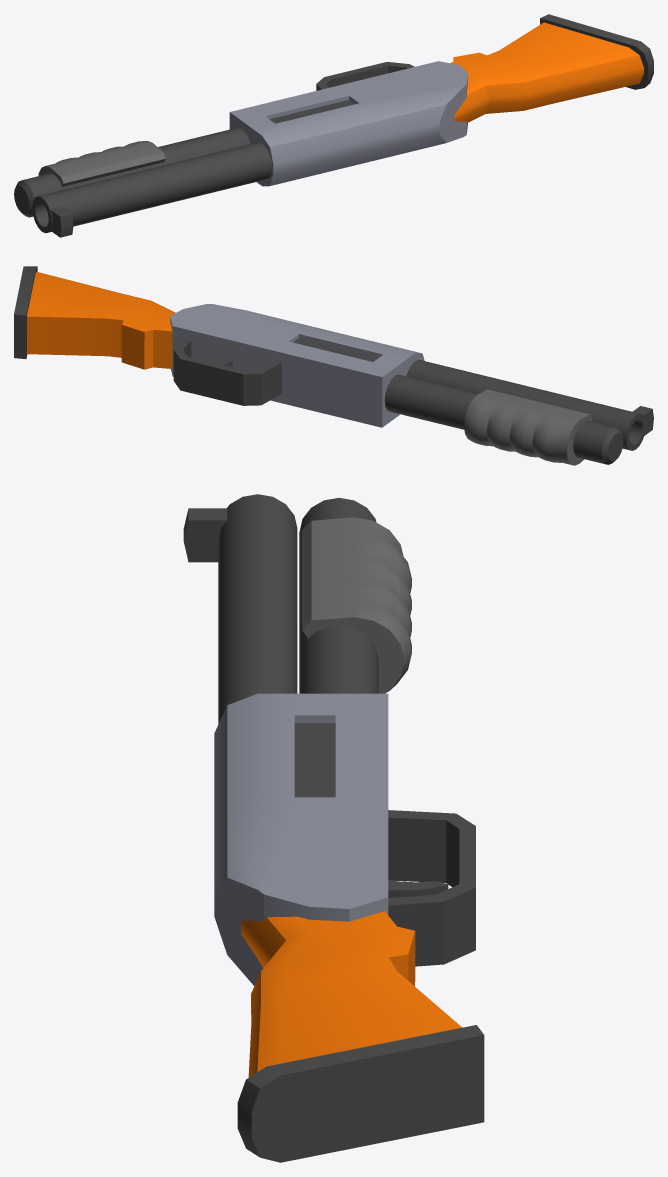
File: StartingGun_orange.glb
3 views of the same model, one above another, from view 1: azimuth 30°, elevation 25°; view 2: azimuth 150°, elevation 25°; view 3: azimuth 270°, elevation 25° (orthographic). The views are drawn at different scales.
Parts seen in each view (by area): view 1: Shotgun; view 2: Shotgun; view 3: Shotgun.
Boxes of the visible parts, x1,y1,x2,y2 form: Shotgun: [14, 14, 653, 237]; Shotgun: [14, 266, 653, 465]; Shotgun: [183, 494, 484, 1162].
Size of the model in its own units: 1.55 by 0.1224 by 0.3308.
